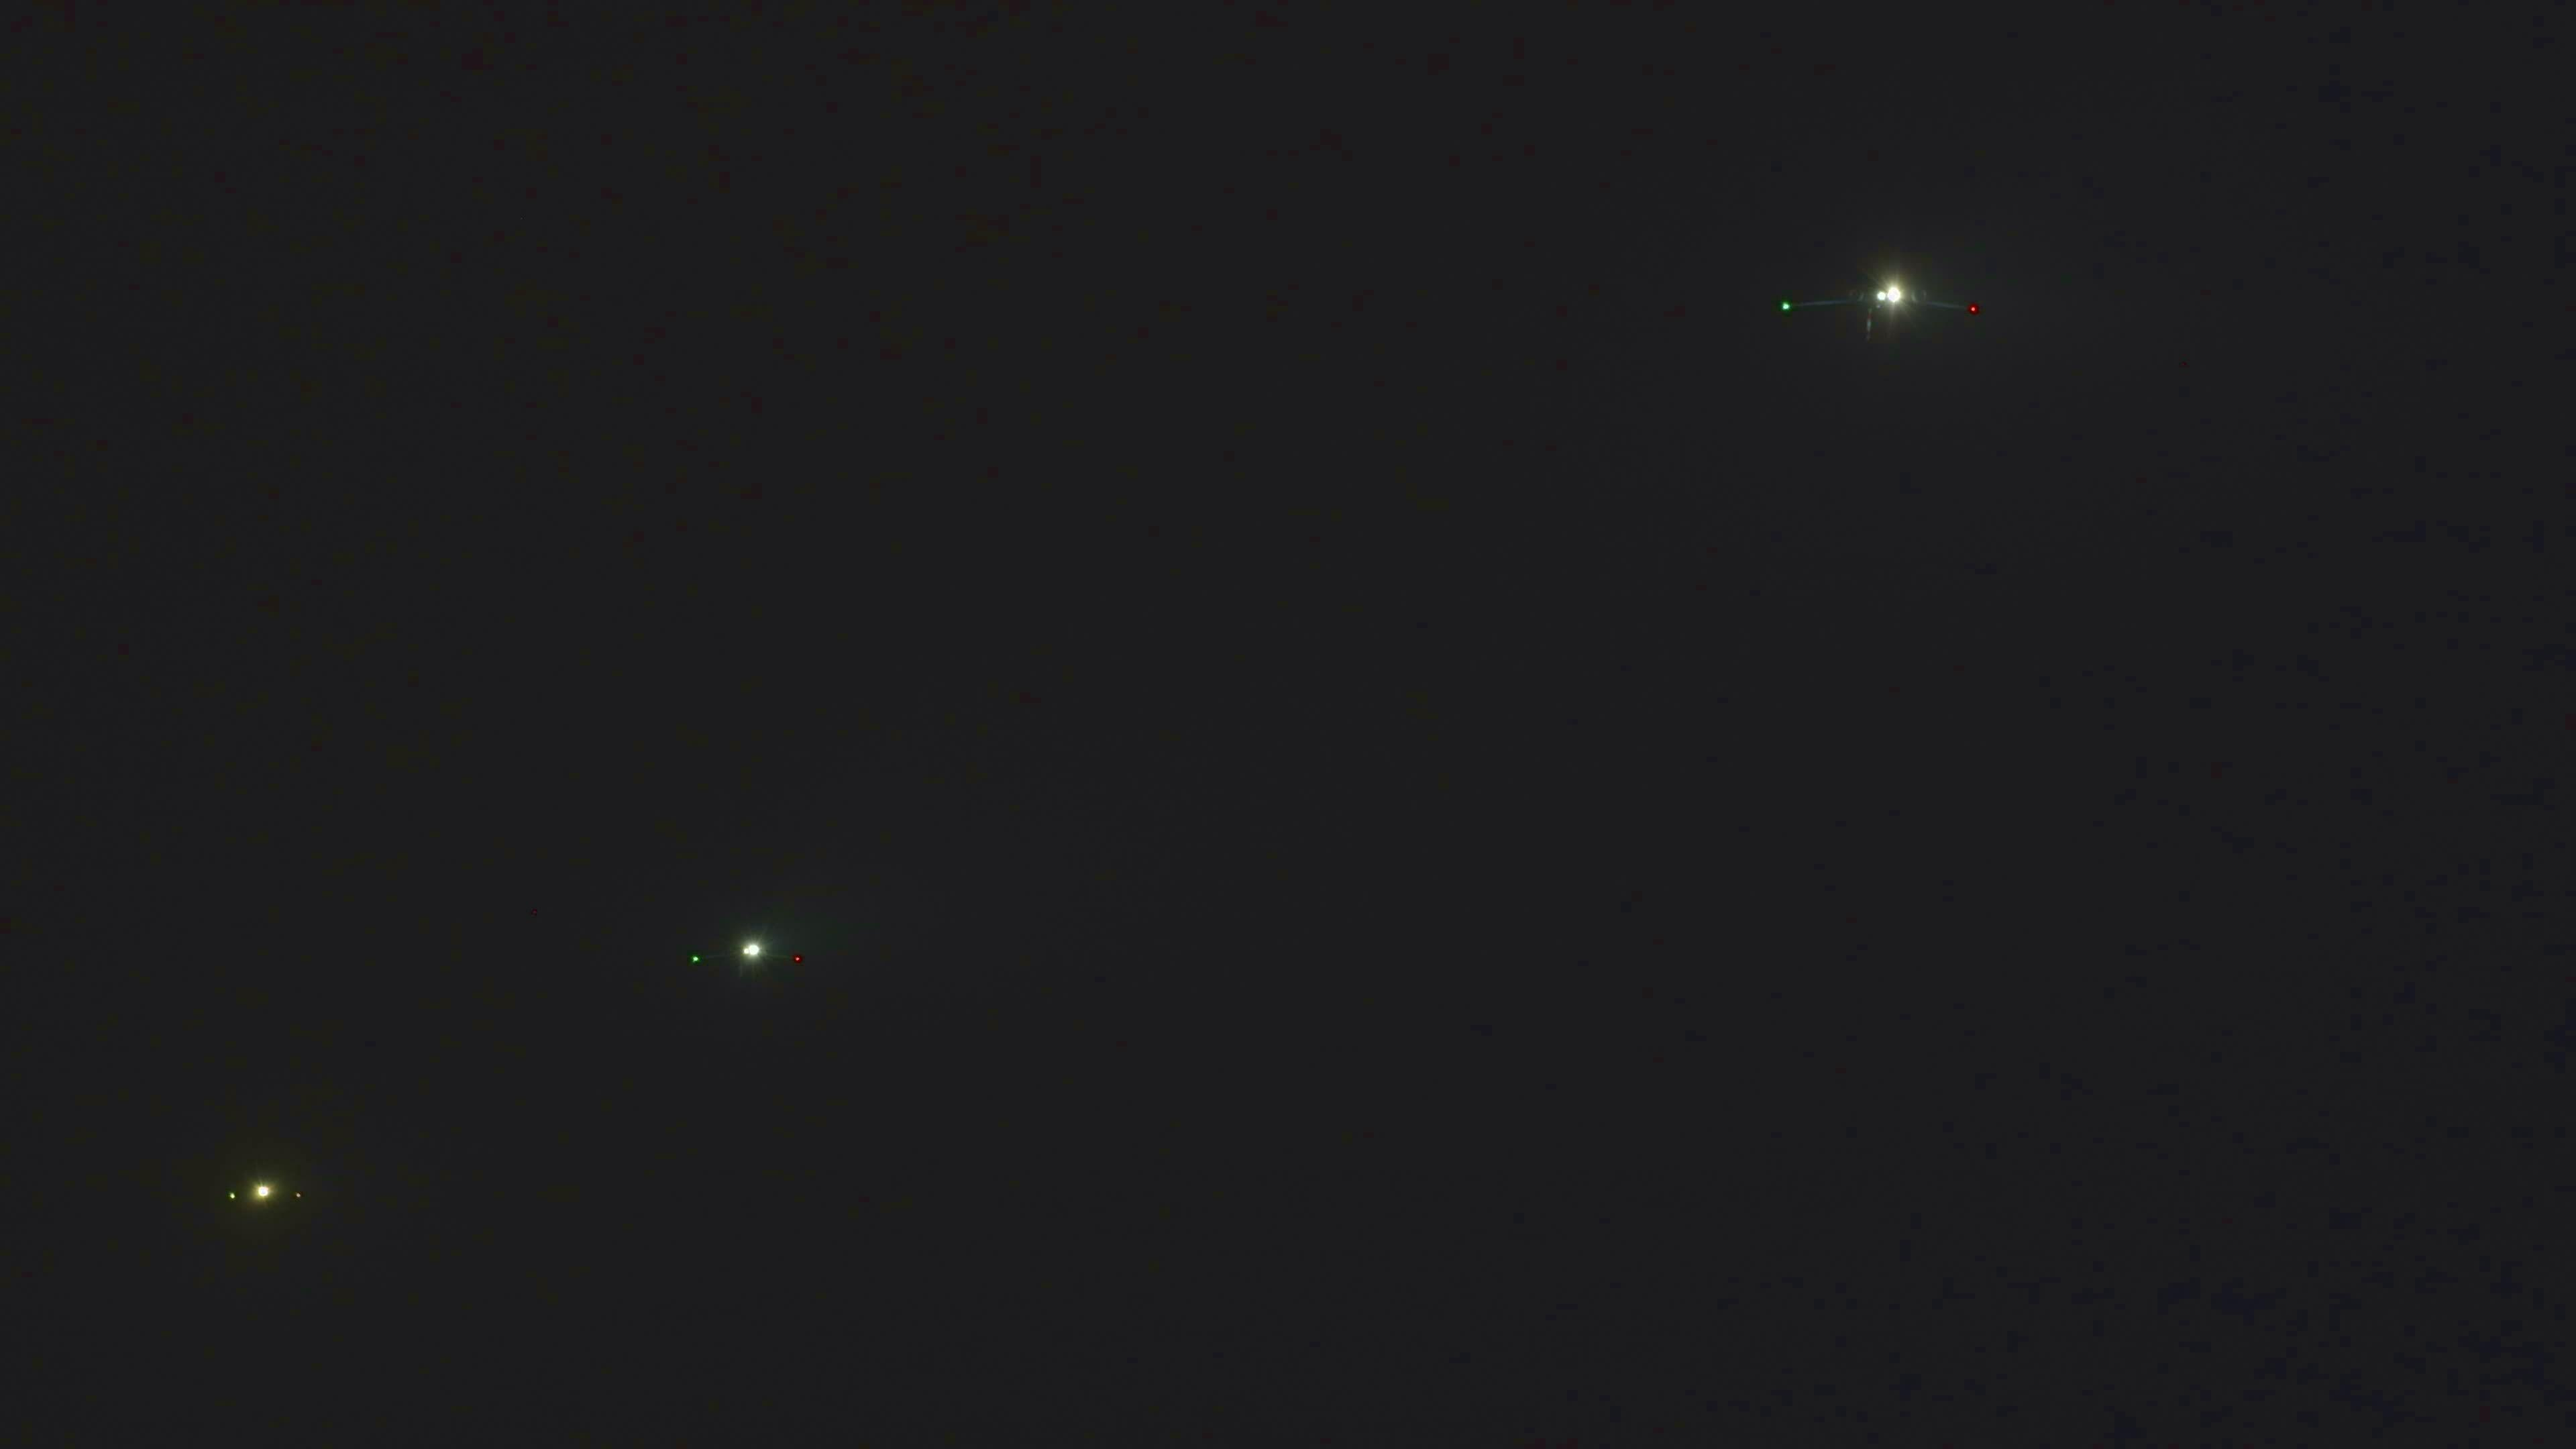Plane: (1698, 244, 2054, 352), (639, 934, 840, 980), (203, 1171, 315, 1203)
